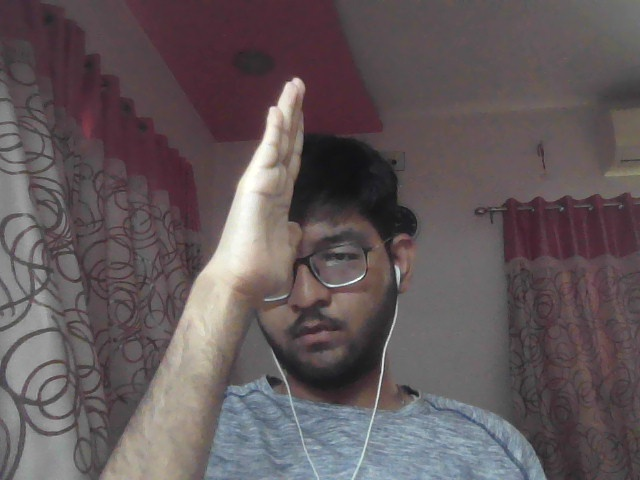પિતા: (192, 68, 339, 304)
